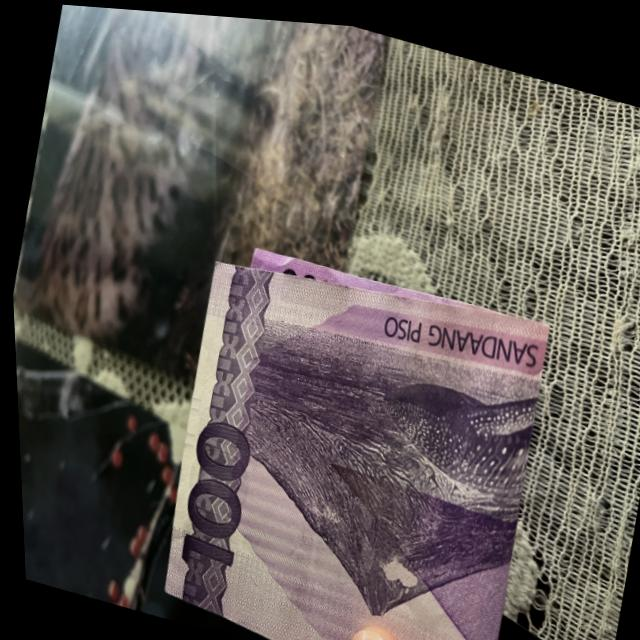value: (162, 401, 263, 590)
